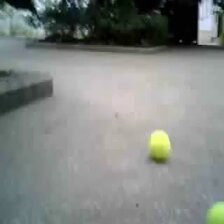tennis: (146, 129, 172, 159)
